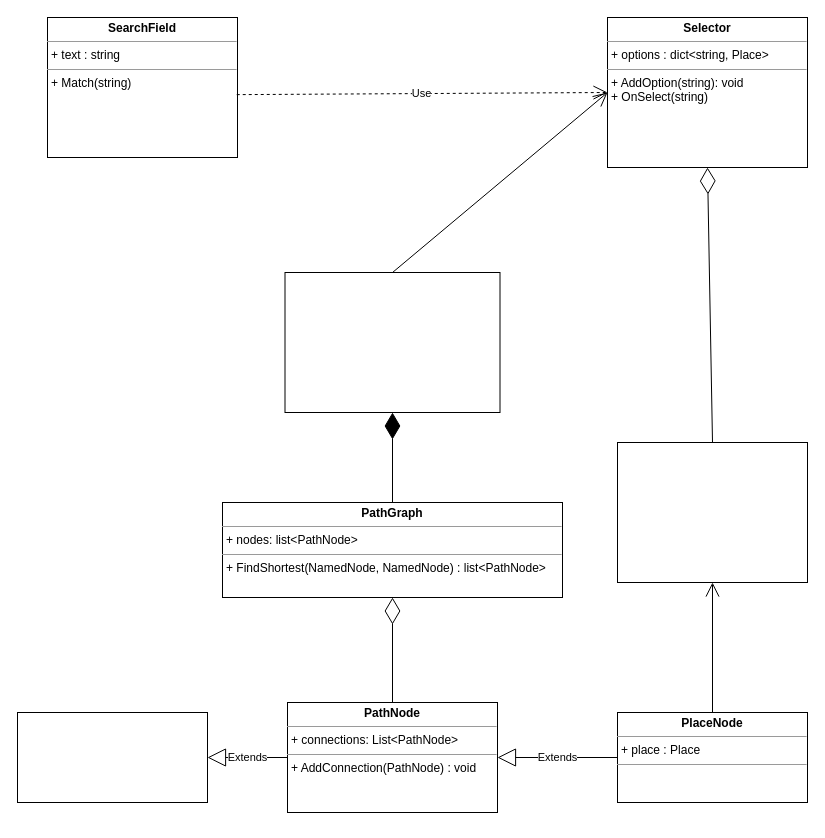
Image size: 825x838. Some labels were removed from this diagram. The shapes that lost their labels are listed below. From the top down, each one's centre as x and y in pixels, then its label:
(x=392, y=342): MapViewer + graph: PathGraph + DisplayPath(Place, Place): void
(x=712, y=512): Place + name : string
(x=112, y=757): Node + position: vector3
